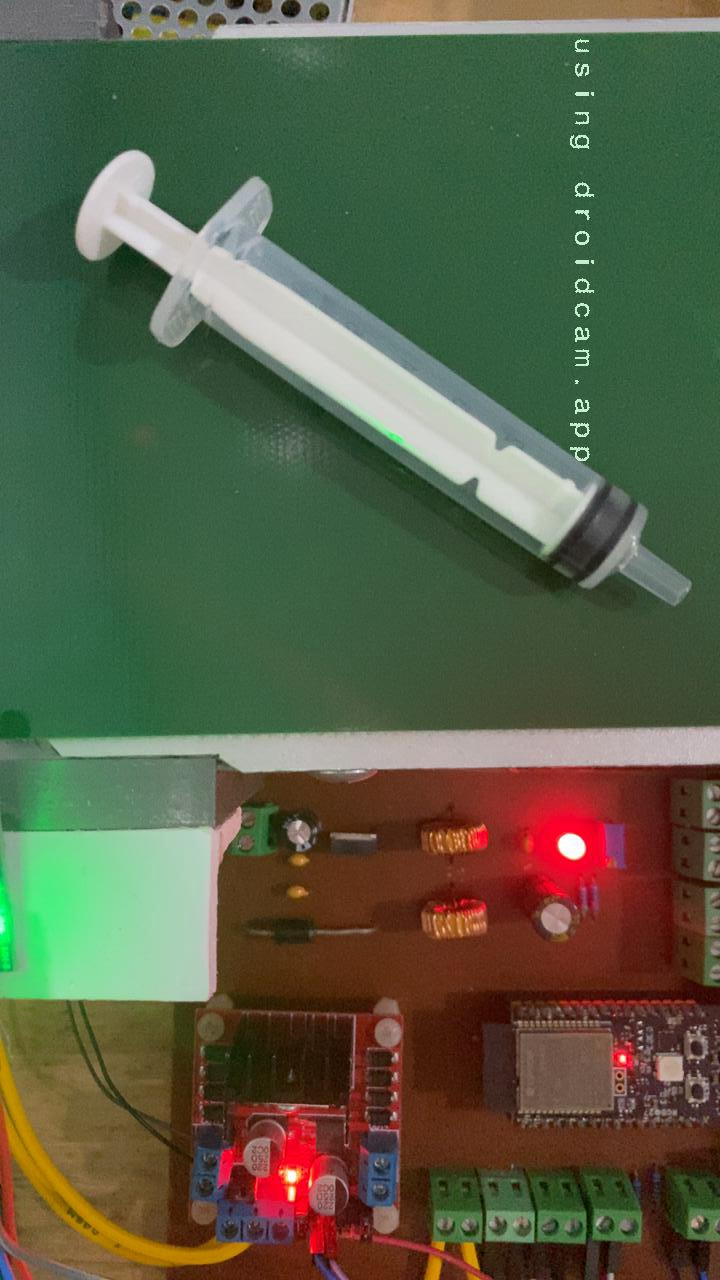syringe: (69, 143, 698, 614)
